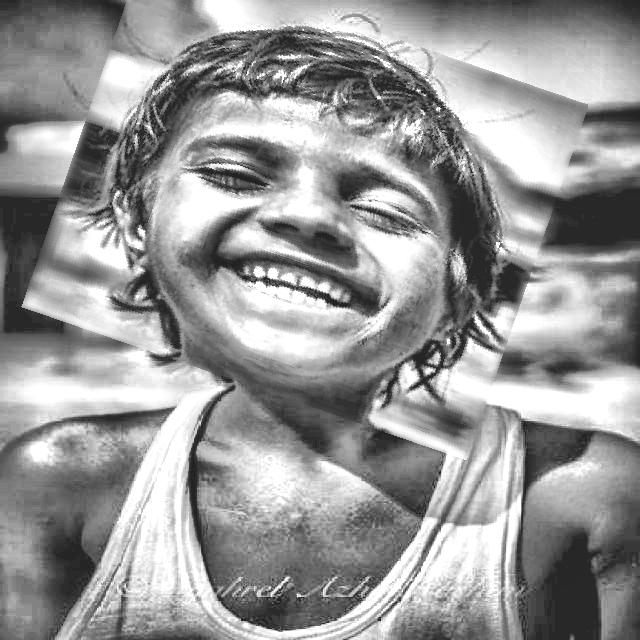happy: (45, 0, 564, 426)
